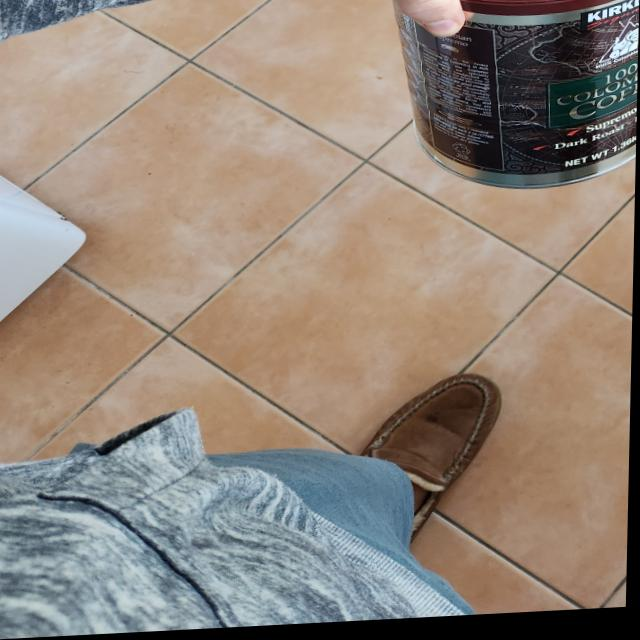coffee: (395, 0, 640, 201)
